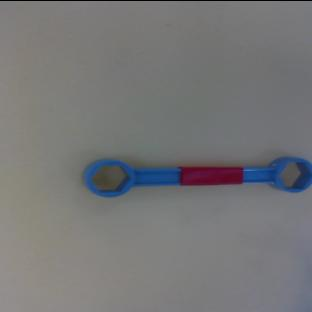part_3_good: (82, 154, 312, 196)
